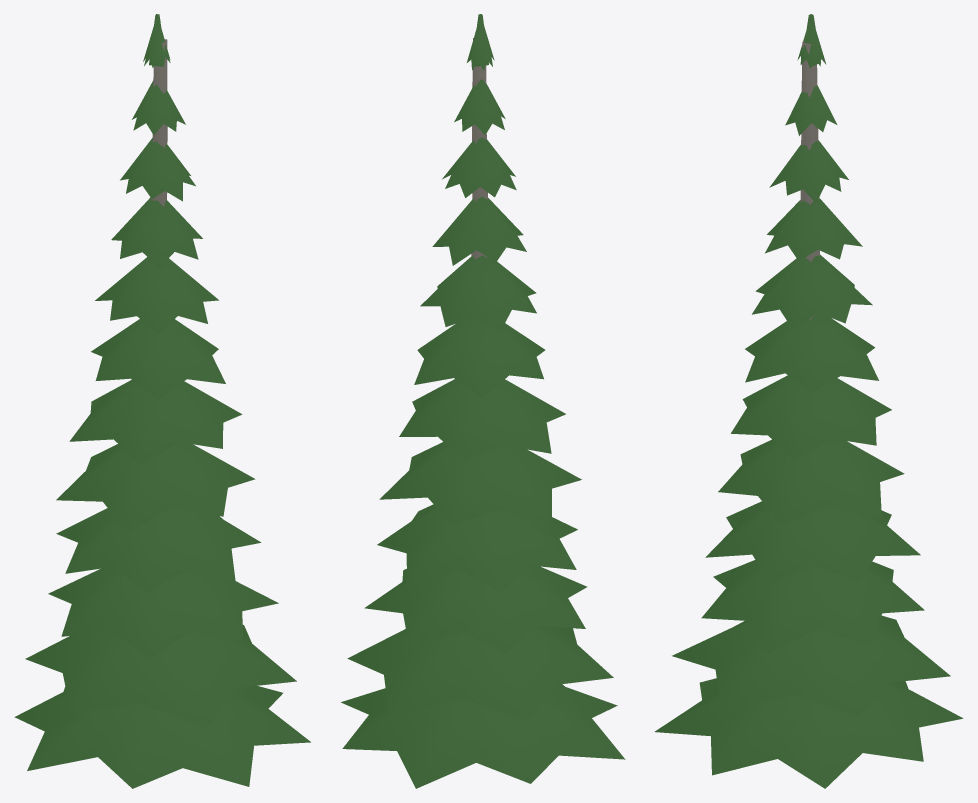
The model's file is Blender_BalsamFir_2_Far.glb.
3 renders of one model, left to right at view 1: azimuth 30°, elevation 25°; view 2: azimuth 150°, elevation 25°; view 3: azimuth 270°, elevation 25°, orthographic.
Parts seen in each view (by area): view 1: Blender_BalsamFir_2_Far; view 2: Blender_BalsamFir_2_Far; view 3: Blender_BalsamFir_2_Far.
Part boxes in pixels (x1=…): Blender_BalsamFir_2_Far: x1=14, y1=14, x2=310, y2=788; Blender_BalsamFir_2_Far: x1=341, y1=14, x2=625, y2=788; Blender_BalsamFir_2_Far: x1=654, y1=14, x2=963, y2=788.
Bounding box in the file's own units: 4.98 × 12.69 × 4.97.
